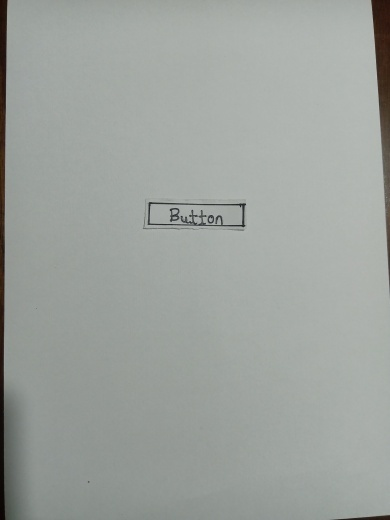button: (147, 201, 247, 224)
